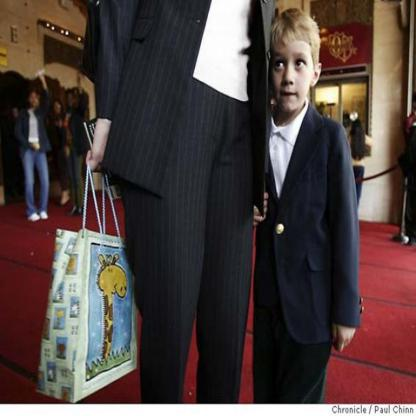face: (272, 44, 313, 109), (30, 93, 39, 106), (55, 103, 62, 114)
